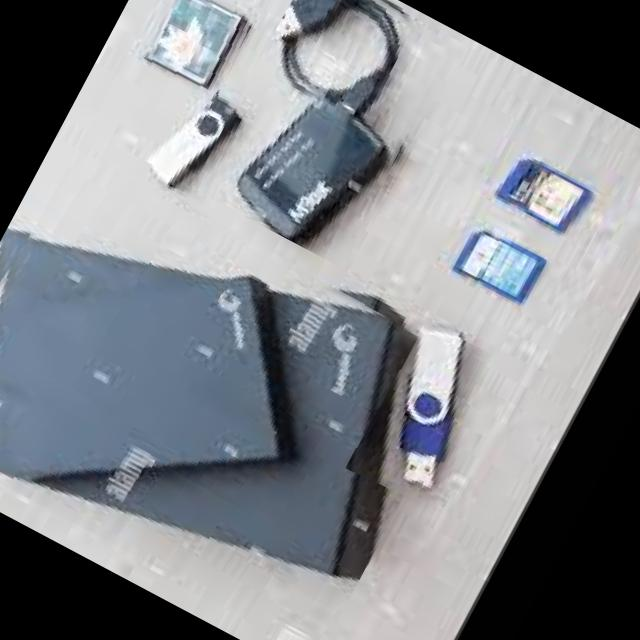Hazard: (0, 230, 421, 589), (231, 0, 409, 240), (444, 152, 582, 307), (381, 320, 459, 493), (137, 0, 243, 85), (149, 96, 242, 188)
